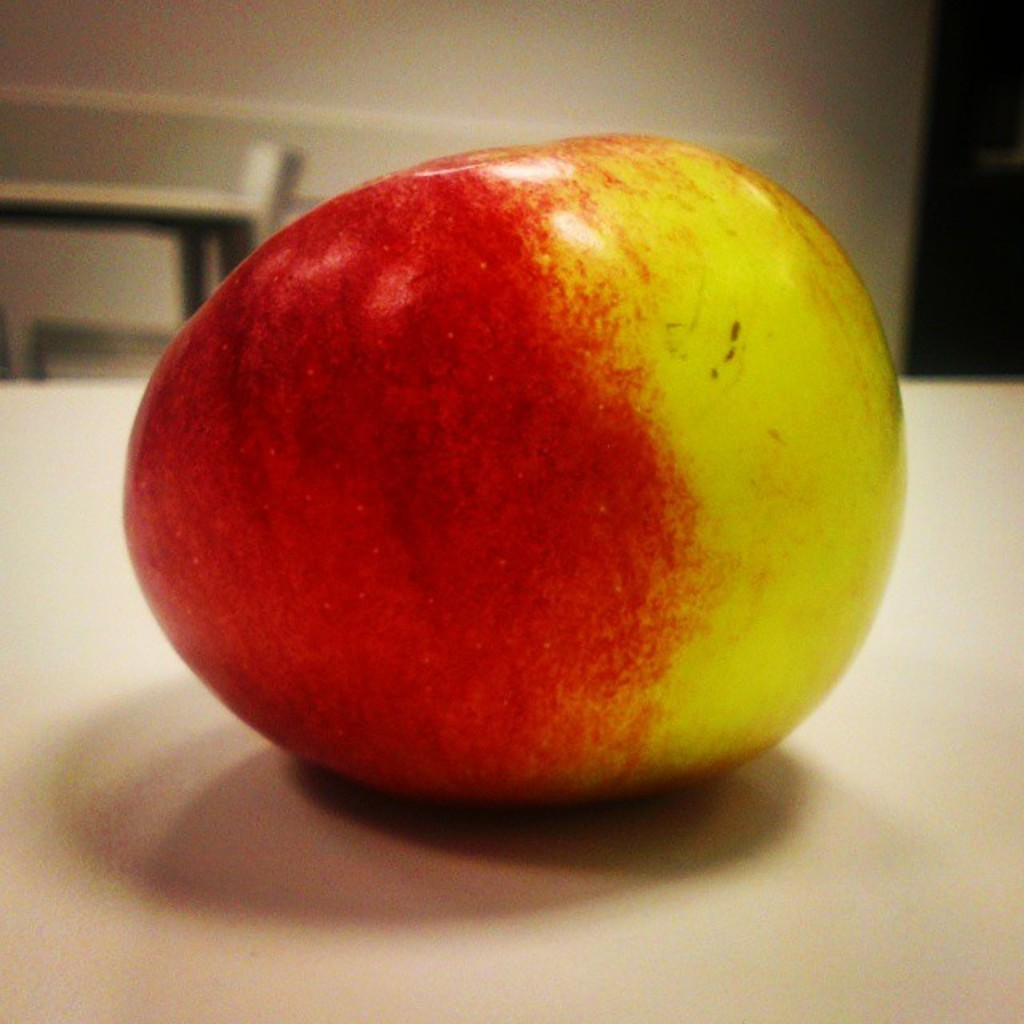Apple: (100, 112, 897, 817)
